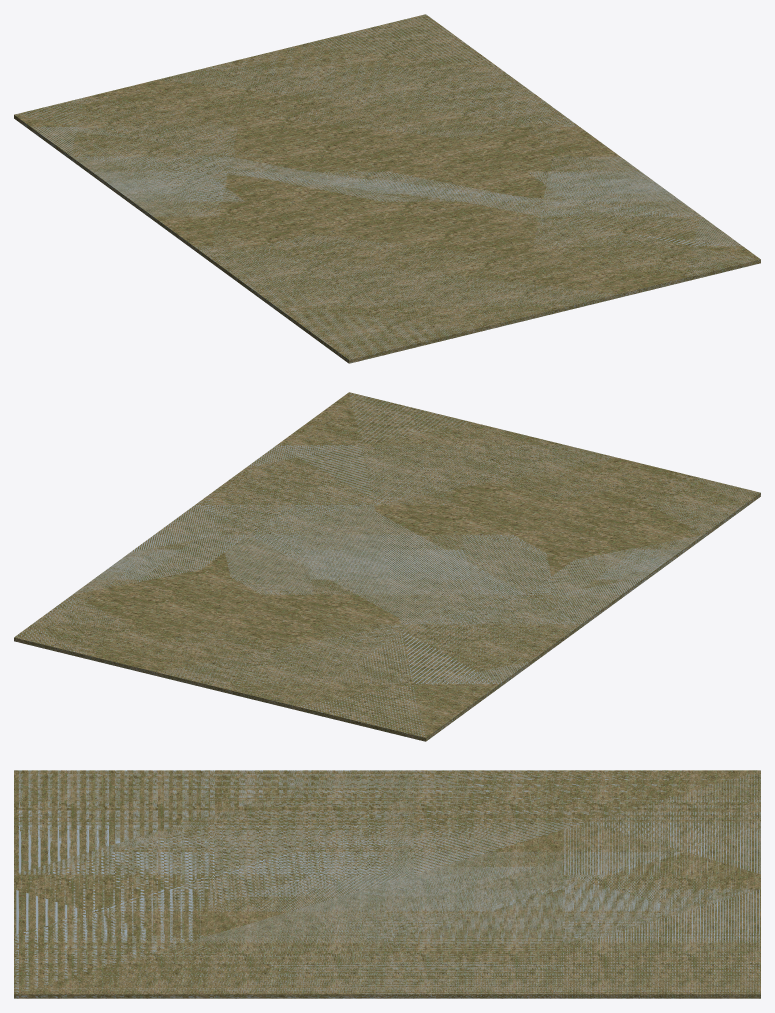
File: grass.dae
The picture shows the model from 3 angles, top to bottom: view 1: azimuth 30°, elevation 25°; view 2: azimuth 150°, elevation 25°; view 3: azimuth 270°, elevation 25°; orthographic projection. The views are drawn at different scales.
Visible parts, largest first — view 1: SketchUp; view 2: SketchUp; view 3: SketchUp.
Boxes of the visible parts, <box> form: SketchUp: <box>14,14,760,363</box>; SketchUp: <box>14,392,760,741</box>; SketchUp: <box>14,770,760,998</box>.
Bounding box in the file's own units: 2351 × 3313 × 20.87.
2 materials, 1 textured.
